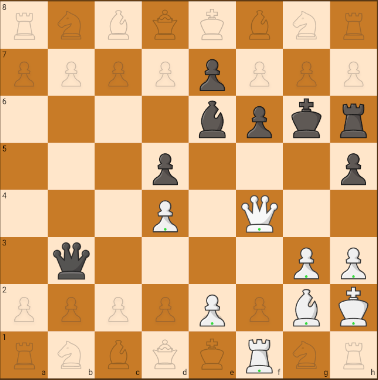bb: (194, 98, 233, 141)
bk: (287, 98, 326, 142)
bp: (146, 145, 186, 189), (194, 56, 234, 94), (241, 99, 276, 141)
bq: (50, 240, 91, 282)
br: (333, 97, 372, 139), (337, 147, 373, 188)
wb: (289, 286, 326, 329), (305, 286, 308, 288)
wk: (336, 286, 373, 328)
wp: (333, 244, 374, 283), (193, 292, 232, 329), (148, 198, 186, 235), (289, 241, 322, 281)
wq: (239, 193, 281, 234)
wr: (241, 334, 279, 376)
